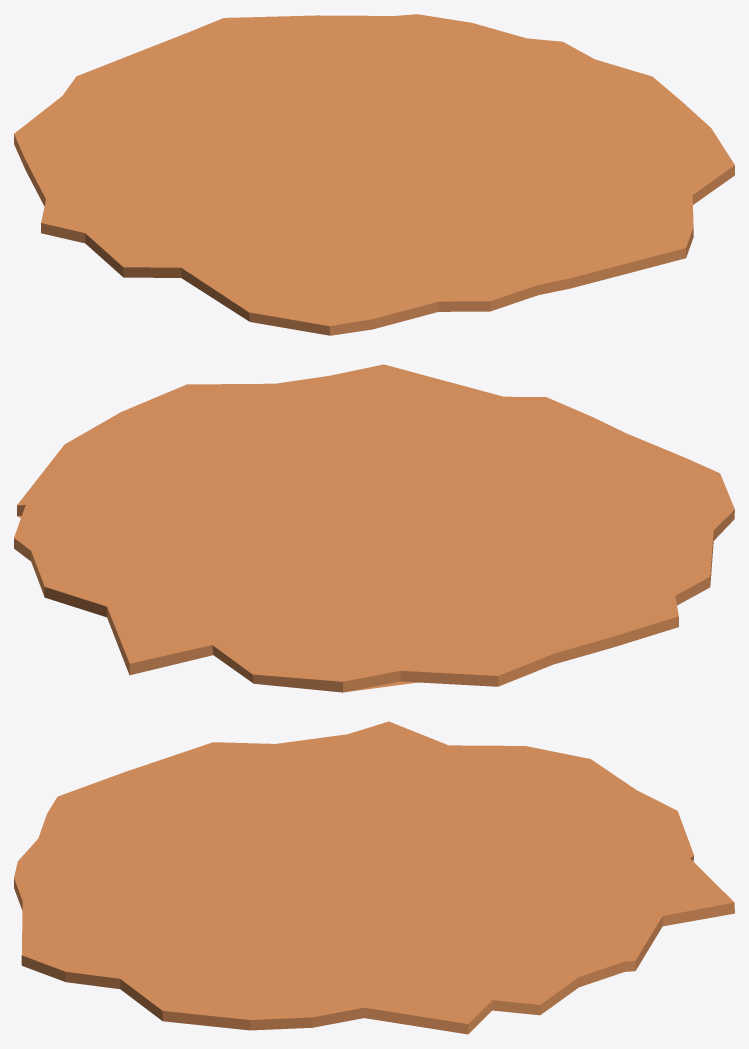
The model's file is osenbei.fbx.
3 views of the same model, one above another, from view 1: azimuth 30°, elevation 25°; view 2: azimuth 150°, elevation 25°; view 3: azimuth 270°, elevation 25° (orthographic). The views are drawn at different scales.
Parts seen in each view (by area): view 1: 円; view 2: 円; view 3: 円.
Boxes of the visible parts, left/top/right/bottom form: 円: left=14, top=14, right=734, bottom=335; 円: left=14, top=364, right=734, bottom=692; 円: left=14, top=721, right=734, bottom=1034.
Size of the model in its own units: 191 by 9.83 by 195.
